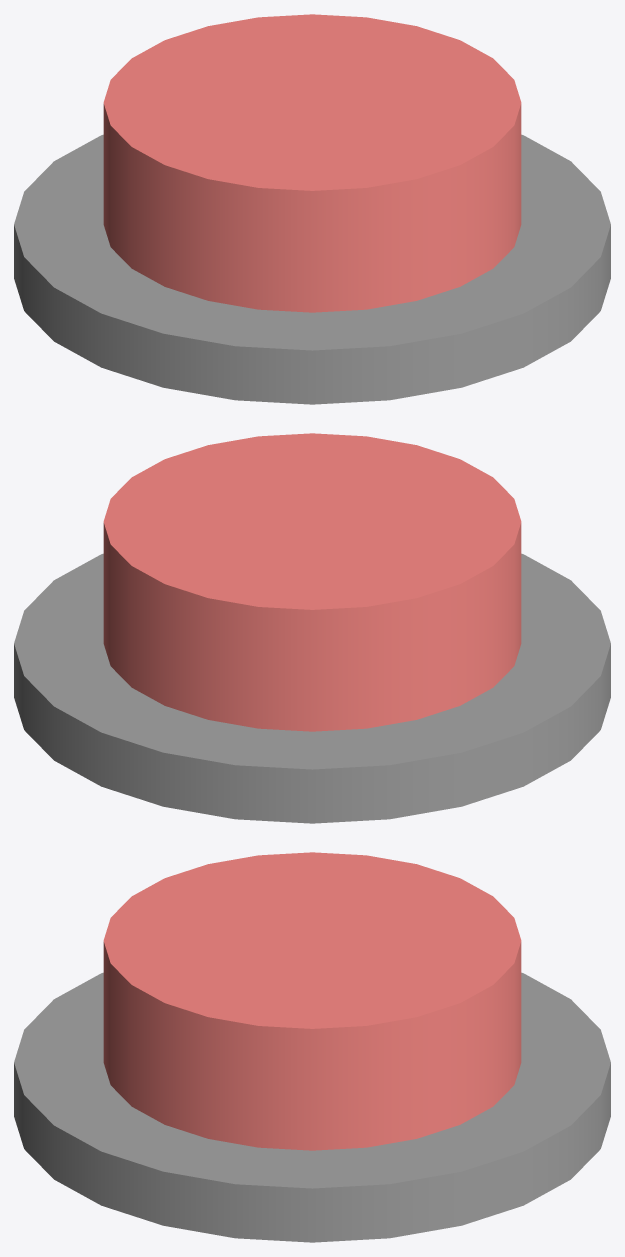
File: button.glb
3 views of the same model, one above another, from view 1: azimuth 30°, elevation 25°; view 2: azimuth 150°, elevation 25°; view 3: azimuth 270°, elevation 25° (orthographic).
Bounding box in the file's own units: 0.75 × 0.2437 × 0.75.
